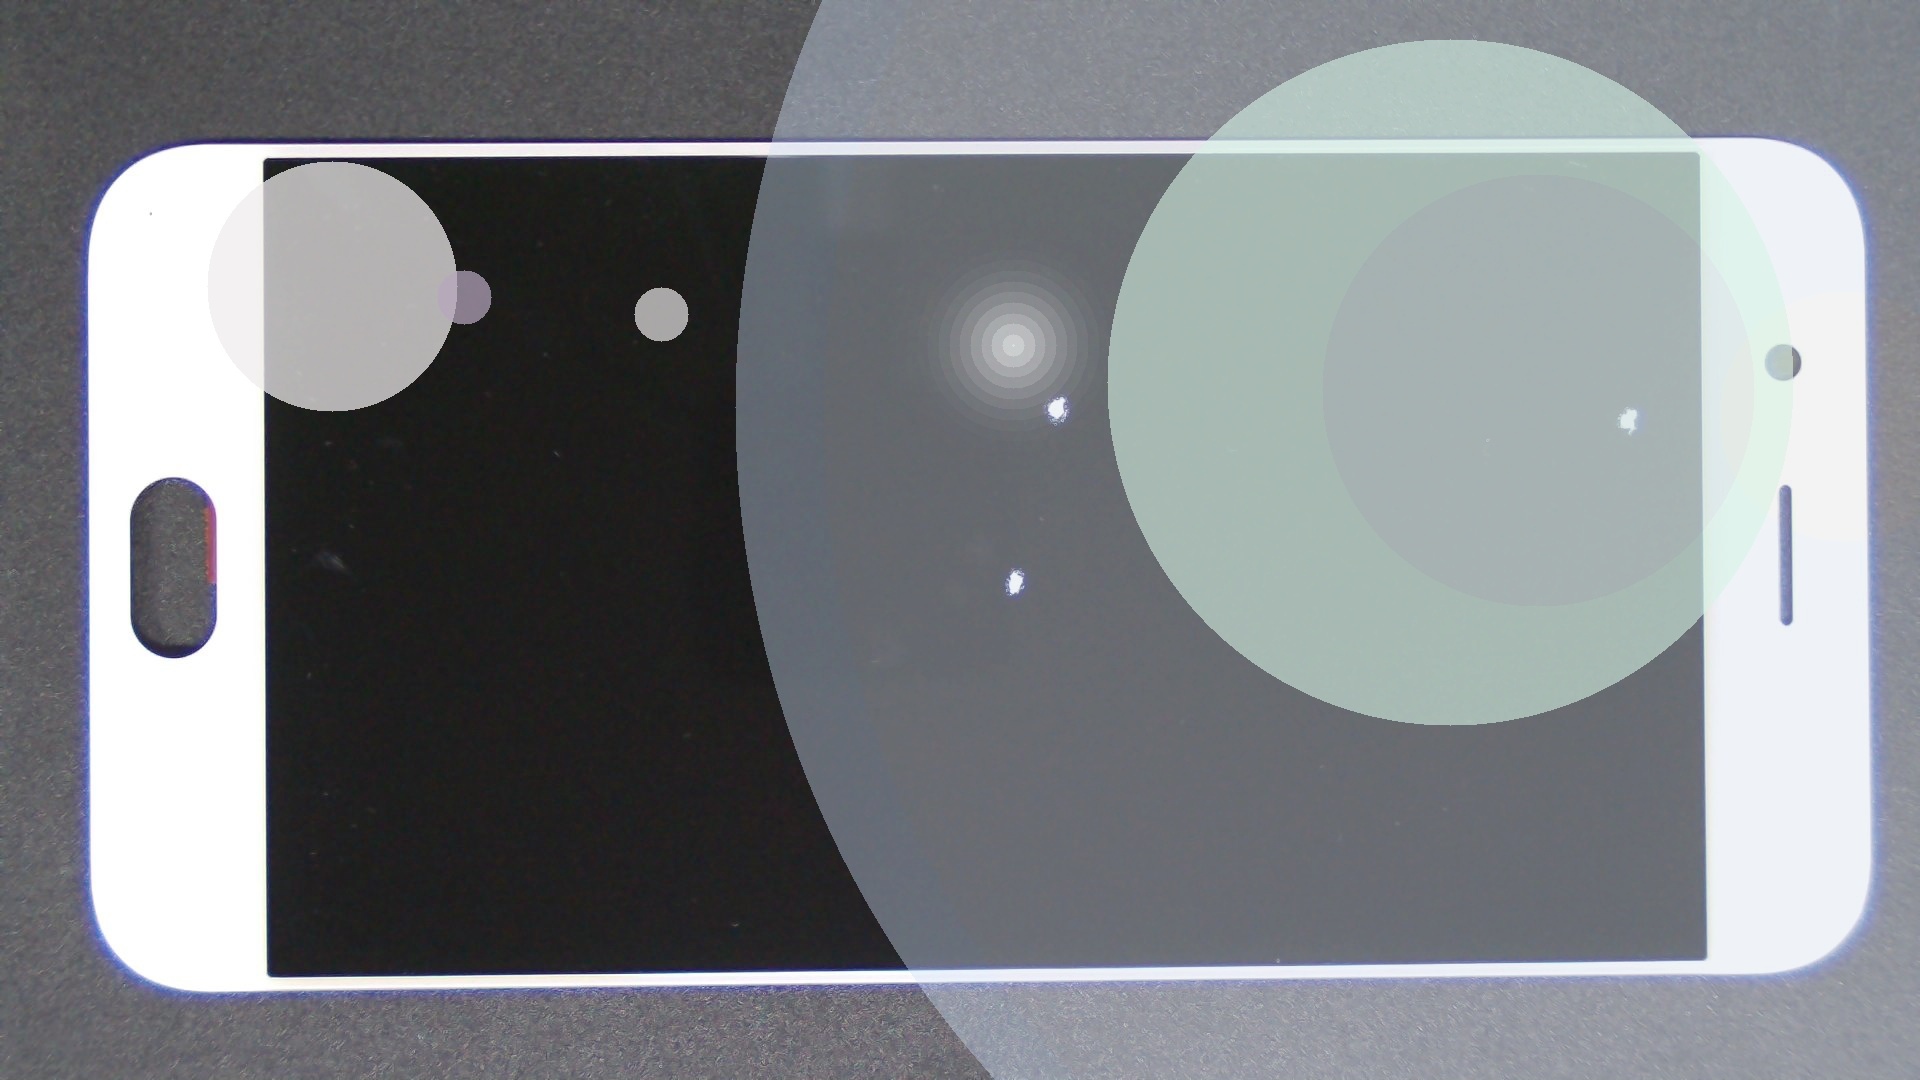oil: (505, 284, 1514, 851), (814, 202, 1920, 608), (530, 196, 1589, 589)
